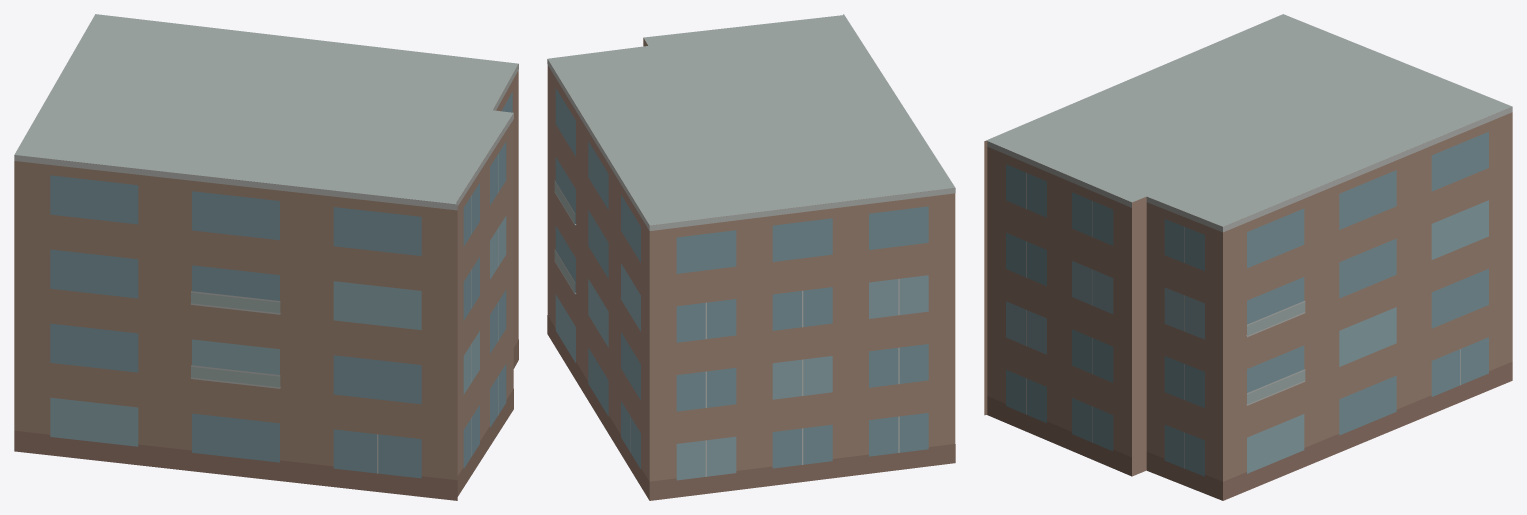
Rendered from survey-upis-33025343.glb.
3 renders of one model, left to right at view 1: azimuth 30°, elevation 25°; view 2: azimuth 150°, elevation 25°; view 3: azimuth 270°, elevation 25°, orthographic. The views are drawn at different scales.
Visible parts, largest first — view 1: survey-upis-33025343.tmp; view 2: survey-upis-33025343.tmp; view 3: survey-upis-33025343.tmp.
Boxes of the visible parts, x1=… form: survey-upis-33025343.tmp: x1=14, y1=14, x2=518, y2=500; survey-upis-33025343.tmp: x1=547, y1=14, x2=955, y2=500; survey-upis-33025343.tmp: x1=984, y1=14, x2=1512, y2=500.
Bounding box in the file's own units: 20.08 × 12.05 × 21.06.
